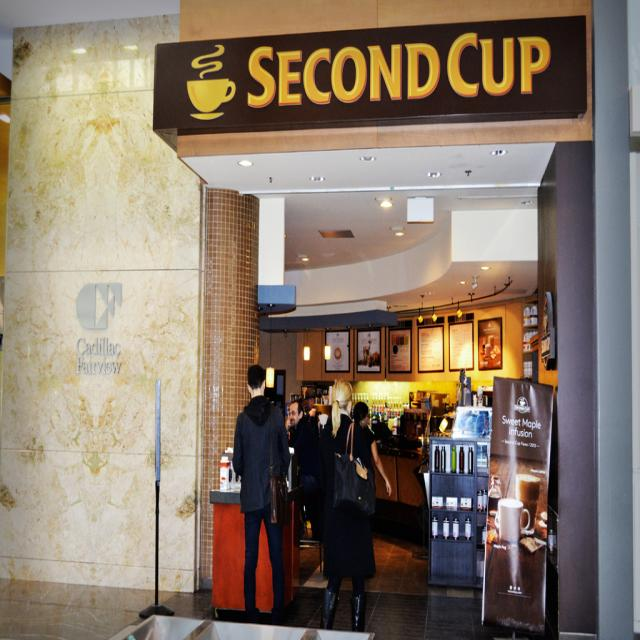Coffee: (515, 471, 536, 482), (501, 498, 521, 507)
